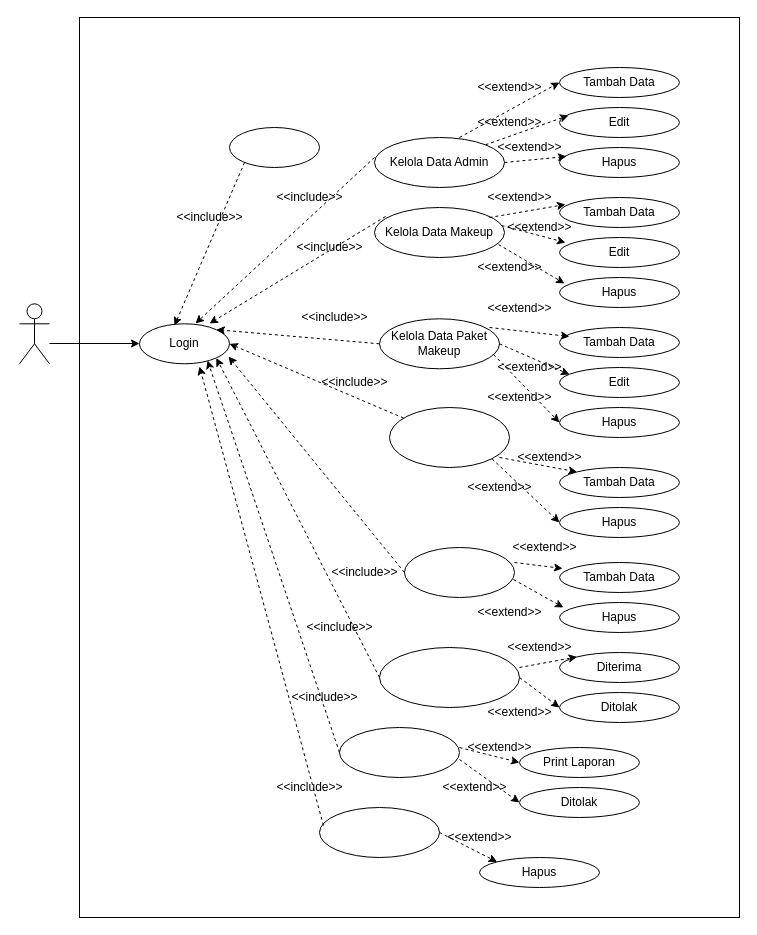
The diagram is 757 pixels wide and 935 high, and some of its shapes have lost their labels. The shapes that lost their labels are listed below. From the top down, each one's centre as x and y in pixels, then its label:
At point 274,147: "Logout".
At point 34,333: "Admin".
At point 449,437: "Kelola Data Hasil Karya".
At point 459,572: "Kelola Data Tarif".
At point 449,677: "Kelola Data Jadwal Pemesanan".
At point 399,752: "Laporan".
At point 379,832: "Kelola Data User".
